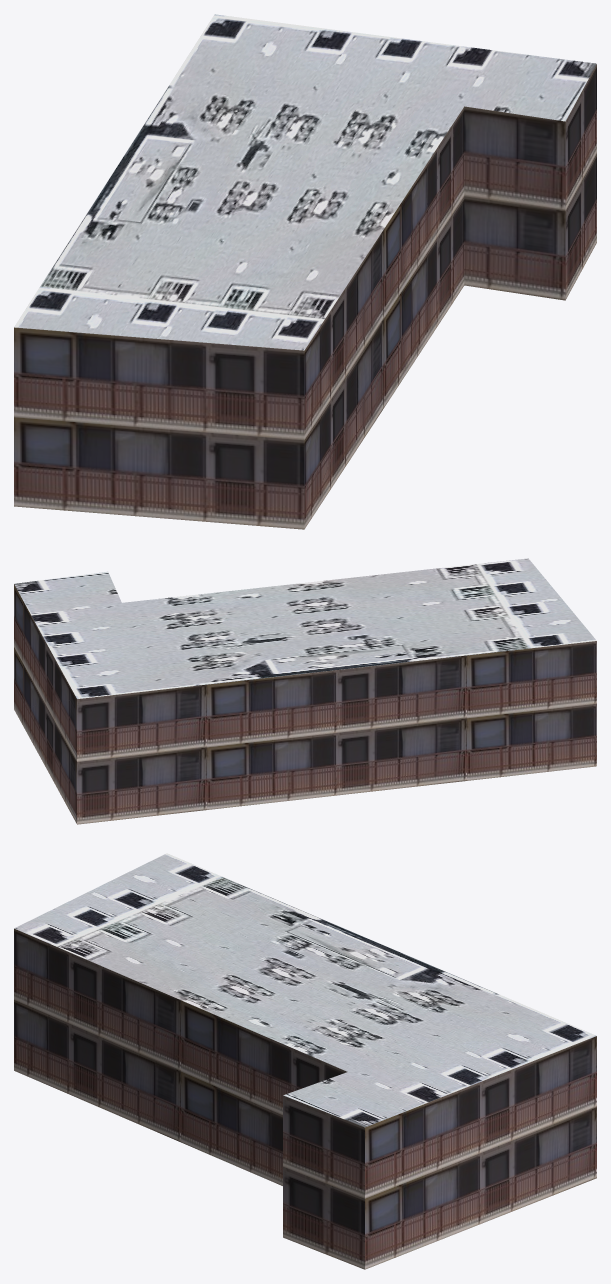
The model's file is ResTex__11.fbx.
3 views of the same model, one above another, from view 1: azimuth 30°, elevation 25°; view 2: azimuth 150°, elevation 25°; view 3: azimuth 270°, elevation 25° (orthographic). The views are drawn at different scales.
Visible parts, largest first — view 1: CityEngineMaterial_6_m, CityEngineMaterial_2_m; view 2: CityEngineMaterial_6_m, CityEngineMaterial_2_m; view 3: CityEngineMaterial_6_m, CityEngineMaterial_2_m.
Part boxes in pixels (x1=…): CityEngineMaterial_6_m: x1=14, y1=64, x2=596, y2=529; CityEngineMaterial_2_m: x1=14, y1=14, x2=596, y2=350; CityEngineMaterial_6_m: x1=14, y1=584, x2=596, y2=824; CityEngineMaterial_2_m: x1=14, y1=558, x2=596, y2=698; CityEngineMaterial_6_m: x1=14, y1=928, x2=596, y2=1269; CityEngineMaterial_2_m: x1=14, y1=853, x2=596, y2=1127.
Bounding box in the file's own units: 24.81 × 6 × 22.28.
Materials: 2 (2 with a texture image).
